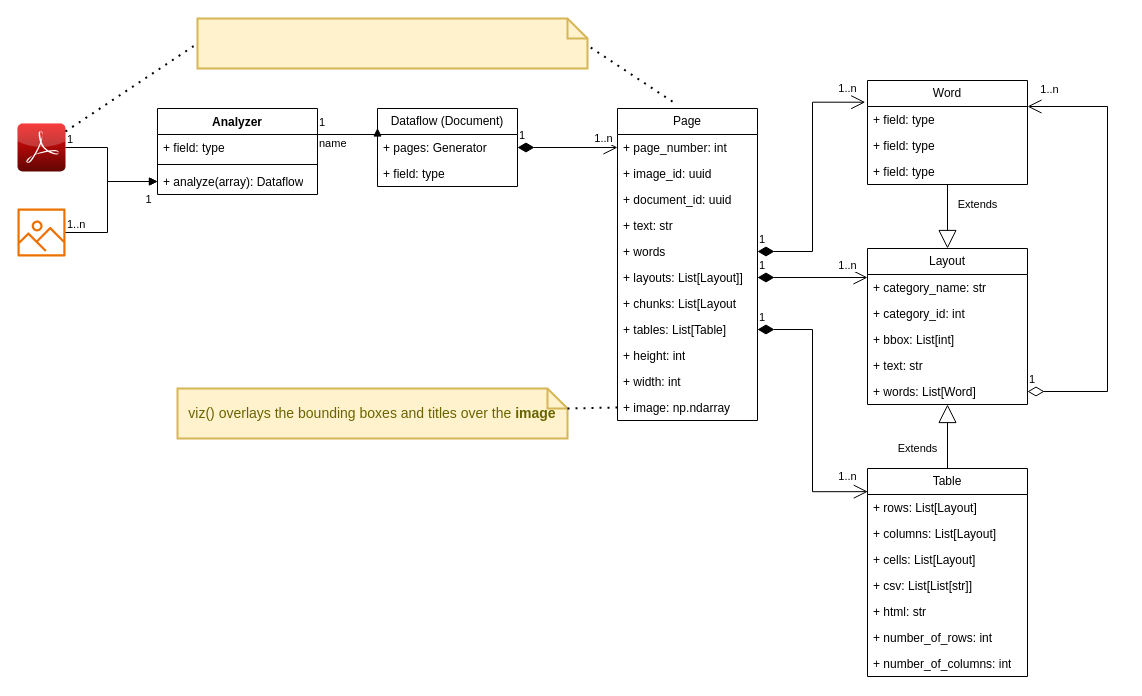
This 1142x696 diagram has some shape labels left out. Here are the shapes that lost their labels. From the top down, the box of each, then its label:
(196, 17, 588, 69): PDF with multiple pages generates multiple page instances.
(16, 122, 66, 172): PDF
(17, 208, 65, 256): Image
